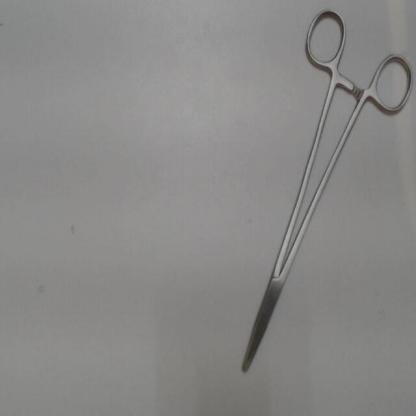8 Mayo Needle Holder: (229, 2, 415, 383)
